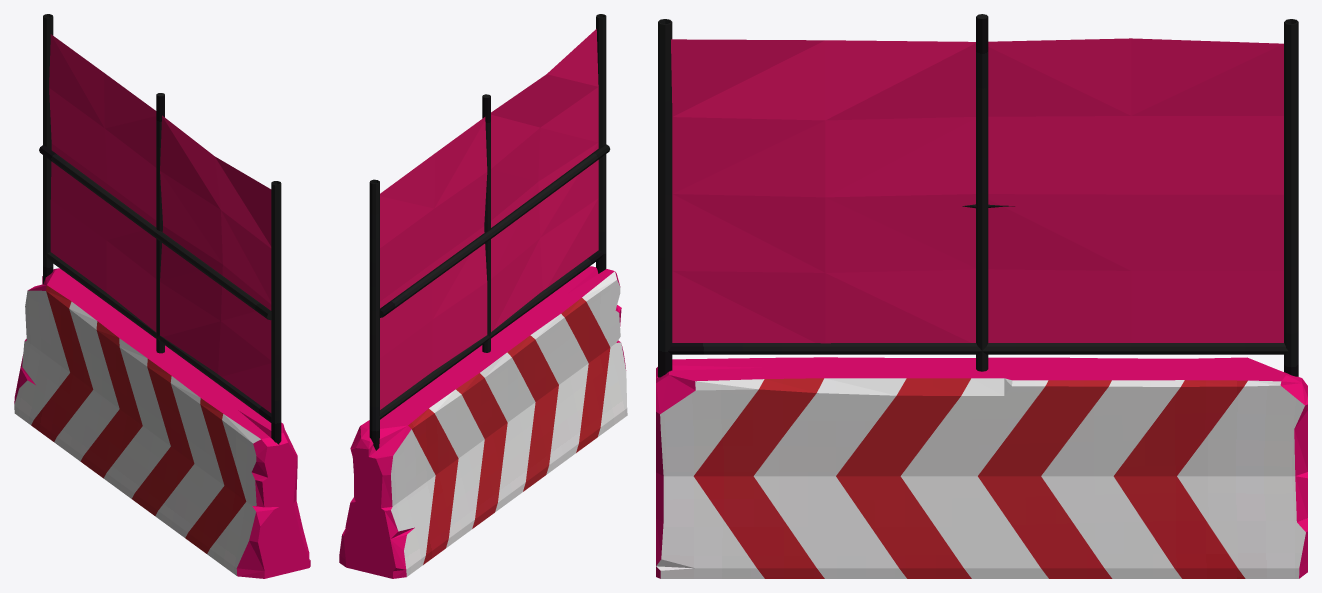
The model's file is Construction_Block00.fbx.
3 views of the same model, side by side, from view 1: azimuth 30°, elevation 25°; view 2: azimuth 150°, elevation 25°; view 3: azimuth 270°, elevation 25° (orthographic). The views are drawn at different scales.
Parts seen in each view (by area): view 1: SM_City_Construction_Block_01.mo; view 2: SM_City_Construction_Block_01.mo; view 3: SM_City_Construction_Block_01.mo.
Boxes of the visible parts, x1=… form: SM_City_Construction_Block_01.mo: x1=14, y1=14, x2=310, y2=578; SM_City_Construction_Block_01.mo: x1=339, y1=14, x2=627, y2=578; SM_City_Construction_Block_01.mo: x1=656, y1=14, x2=1307, y2=578.
Size of the model in its own units: 44.73 by 256 by 280.
